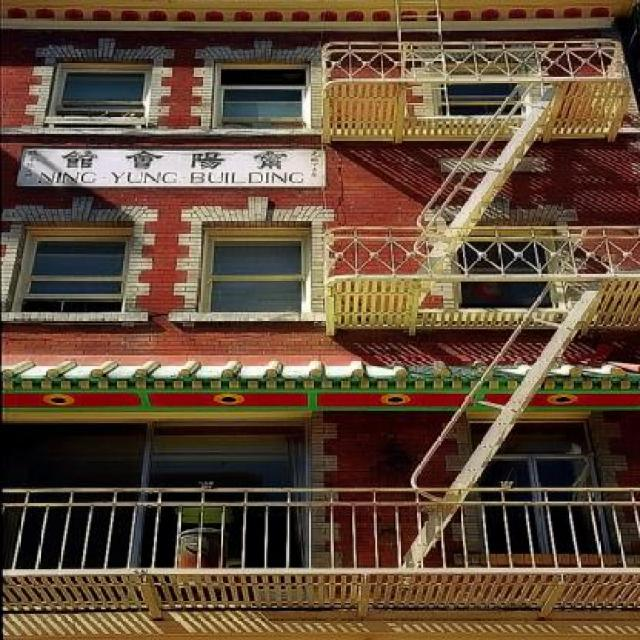stair: (402, 288, 603, 569), (414, 88, 552, 303)
